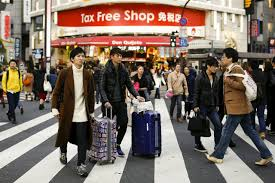people: (220, 48, 273, 165), (54, 48, 96, 177), (98, 49, 133, 155), (193, 58, 224, 150), (4, 60, 21, 123), (166, 65, 185, 121), (132, 66, 150, 103), (183, 67, 196, 116)
